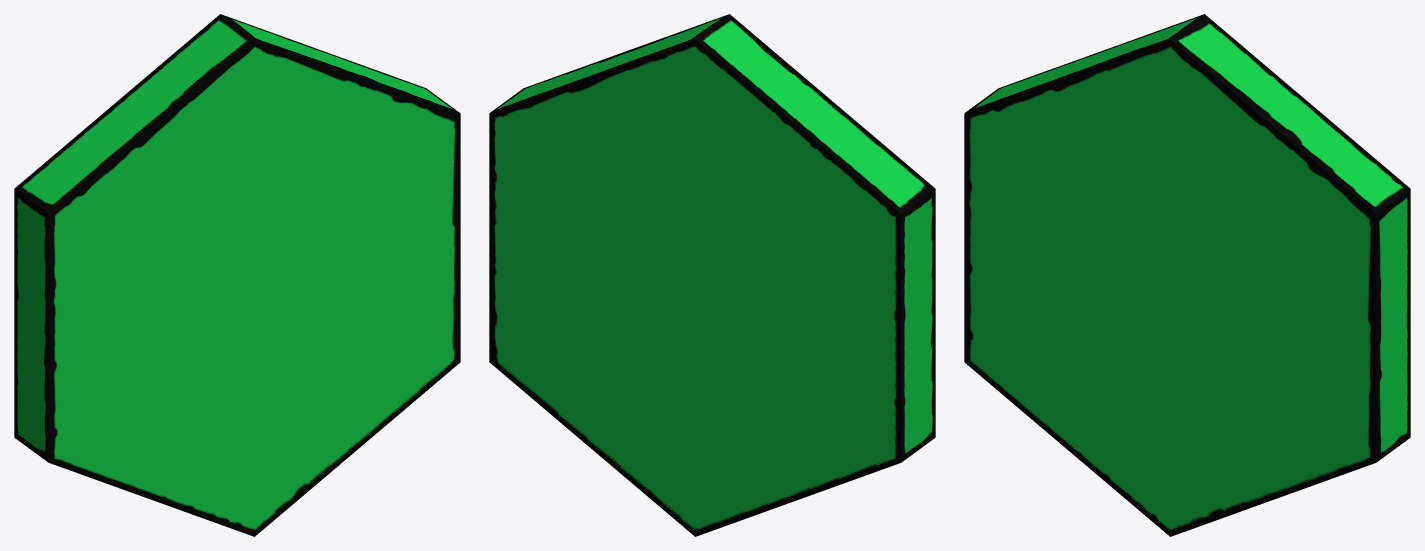
Rendered from Grass Tile.glb.
3 views of the same model, side by side, from view 1: azimuth 30°, elevation 25°; view 2: azimuth 150°, elevation 25°; view 3: azimuth 330°, elevation 25° (orthographic).
Visible parts, largest first — view 1: node_id3; view 2: node_id3; view 3: node_id3.
Boxes of the visible parts, box(x1,y1,x2,y2) form: node_id3: box(14, 14, 460, 536); node_id3: box(489, 14, 935, 536); node_id3: box(964, 14, 1410, 536).
Bounding box in the file's own units: 0.4434 × 0.512 × 0.064.
Materials: 1 (1 with a texture image).
